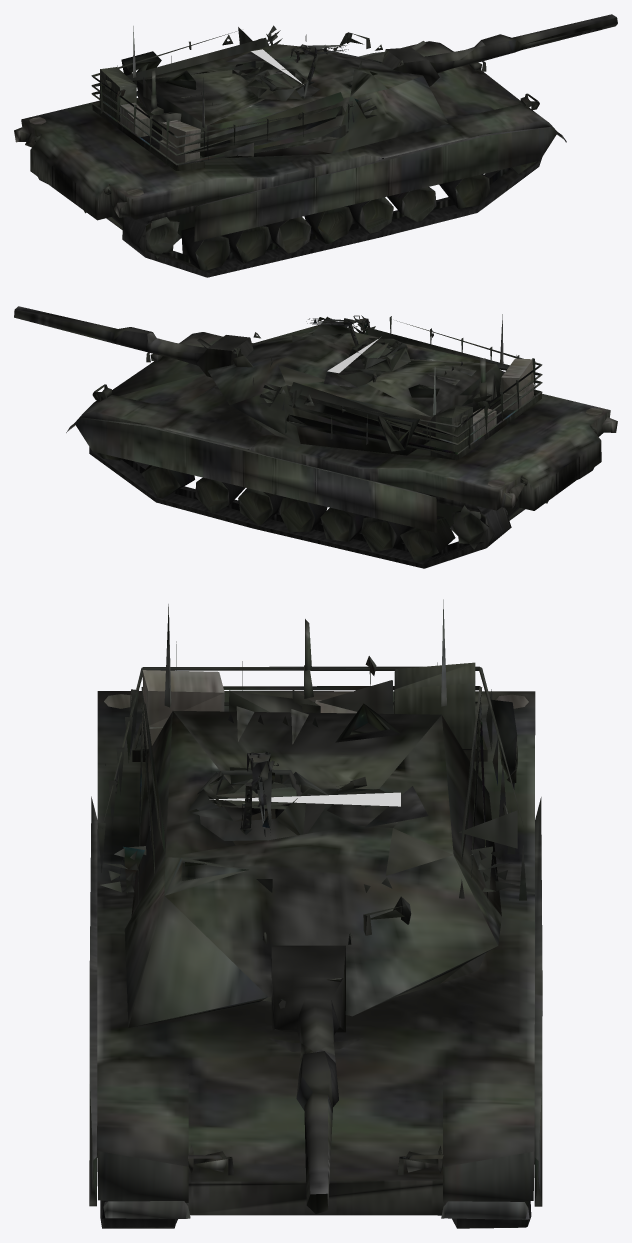
The picture shows the model from 3 angles, top to bottom: view 1: azimuth 30°, elevation 25°; view 2: azimuth 150°, elevation 25°; view 3: azimuth 270°, elevation 25°; orthographic projection. The views are drawn at different scales.
Parts seen in each view (by area): view 1: g_m1a1_hull, g_m1a1_turret, g_m1a1_gun; view 2: g_m1a1_hull, g_m1a1_turret, g_m1a1_gun; view 3: g_m1a1_hull, g_m1a1_turret, g_m1a1_gun.
Part boxes in pixels (box(x1,y1,x2,y2)): g_m1a1_hull: box(14, 41, 566, 277); g_m1a1_turret: box(91, 25, 448, 165); g_m1a1_gun: box(382, 14, 617, 86); g_m1a1_hull: box(66, 332, 617, 568); g_m1a1_turret: box(208, 314, 542, 455); g_m1a1_gun: box(14, 306, 253, 377); g_m1a1_hull: box(89, 619, 542, 1228); g_m1a1_turret: box(97, 599, 526, 1027); g_m1a1_gun: box(271, 945, 345, 1213).
Size of the model in its own units: 9.79 by 3.24 by 3.49.
4 materials, 3 textured.
